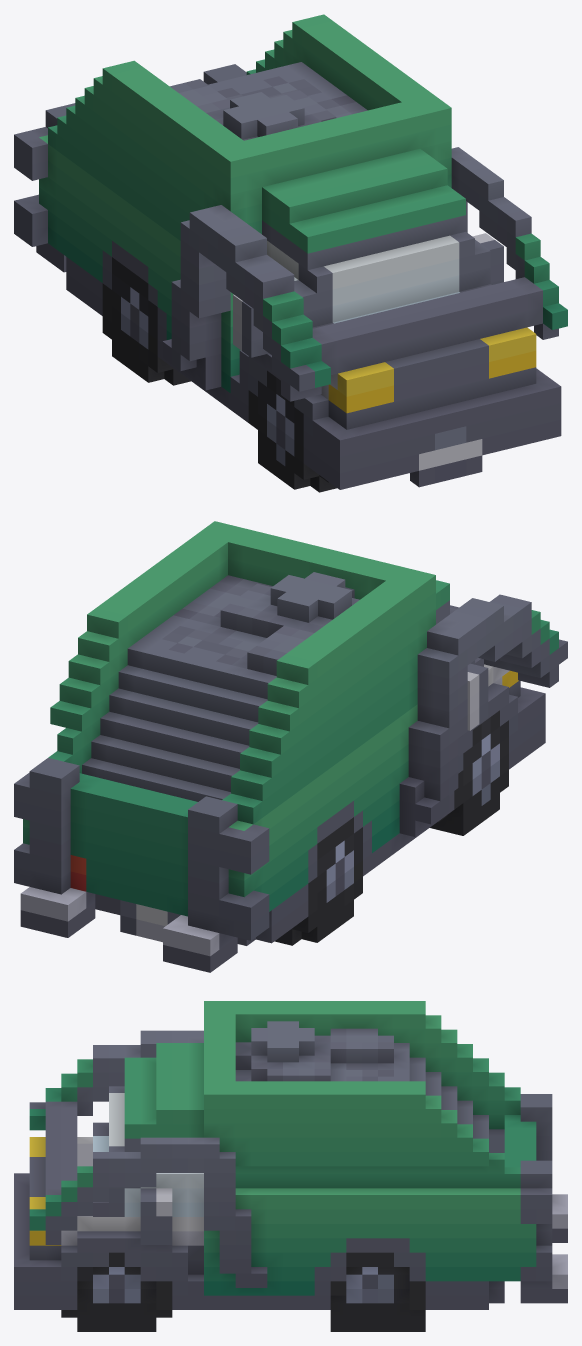
Rendered from garbage_truck.glb.
3 views of the same model, one above another, from view 1: azimuth 30°, elevation 25°; view 2: azimuth 150°, elevation 25°; view 3: azimuth 270°, elevation 25° (orthographic). The views are drawn at different scales.
Visible parts, largest first — view 1: voxels; view 2: voxels; view 3: voxels.
Boxes of the visible parts, x1=… form: voxels: x1=14, y1=14, x2=567, y2=492; voxels: x1=14, y1=521, x2=567, y2=972; voxels: x1=14, y1=1001, x2=567, y2=1331.
Size of the model in its own units: 1.7 by 1.7 by 3.5.
